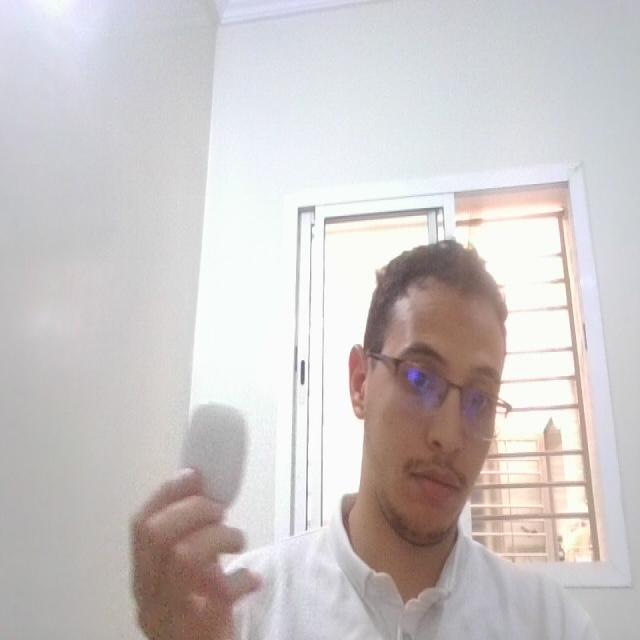airpods: (182, 394, 252, 516)
